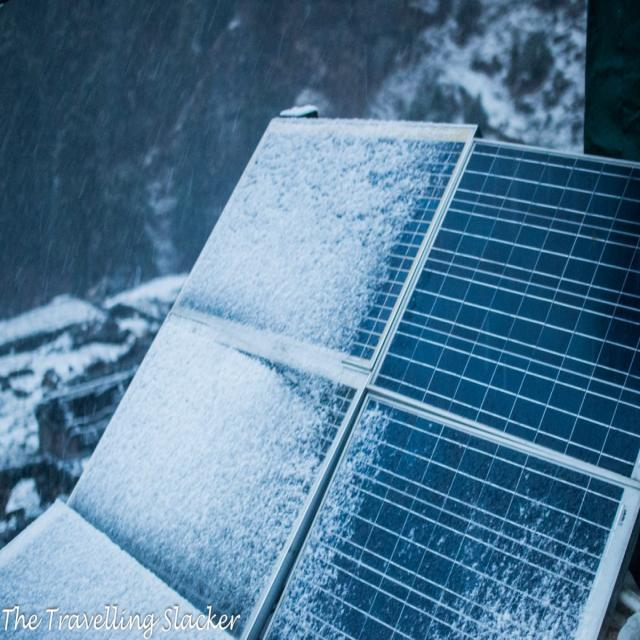Anomaly Solar Panel: (71, 315, 640, 640), (171, 116, 640, 487)
Snow: (70, 104, 449, 636)
